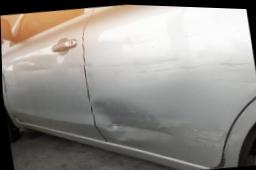Door: (88, 94, 144, 149)
